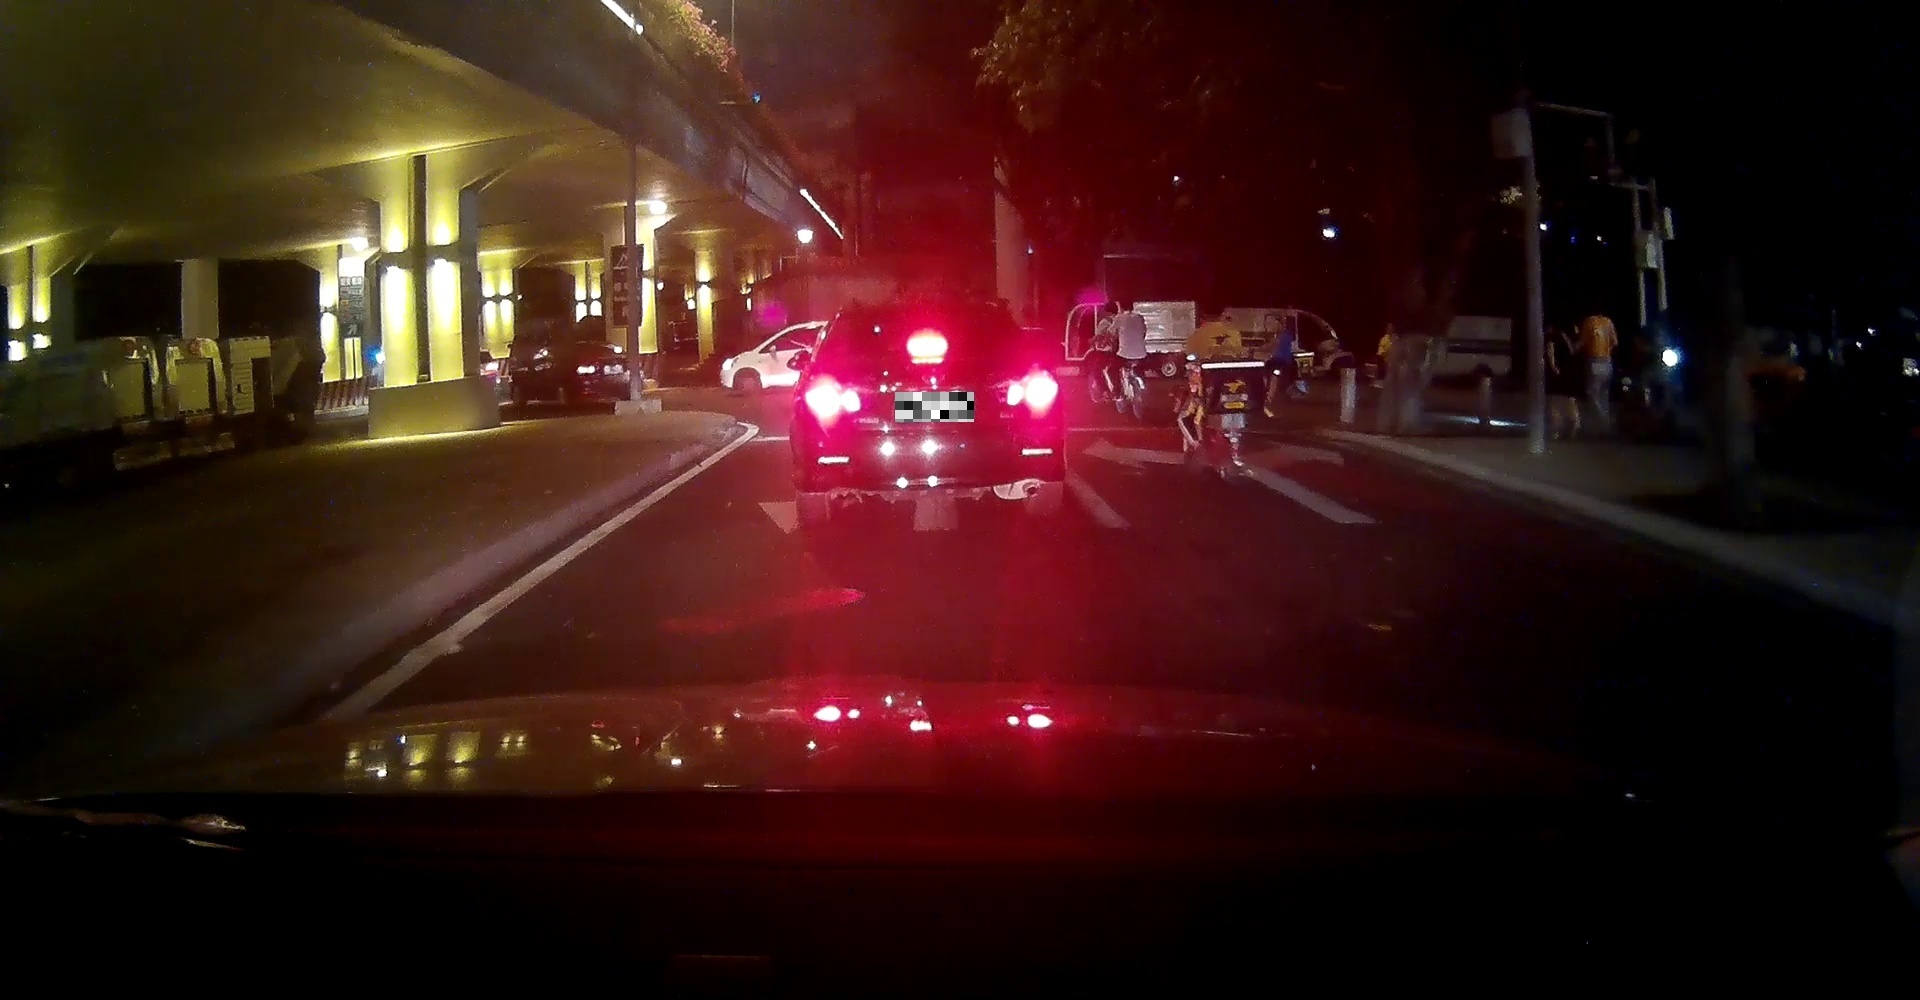L_light: (803, 386, 863, 420)
R_light: (1002, 376, 1058, 411)
T_light: (905, 336, 949, 357)
night-brake: (792, 299, 1065, 524)
plate_1: (895, 392, 974, 423)
